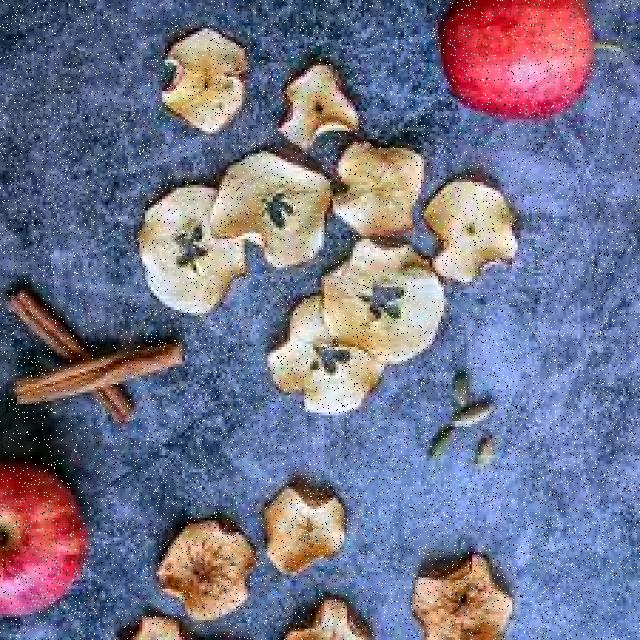Apple: (438, 2, 594, 116), (0, 465, 87, 619)
